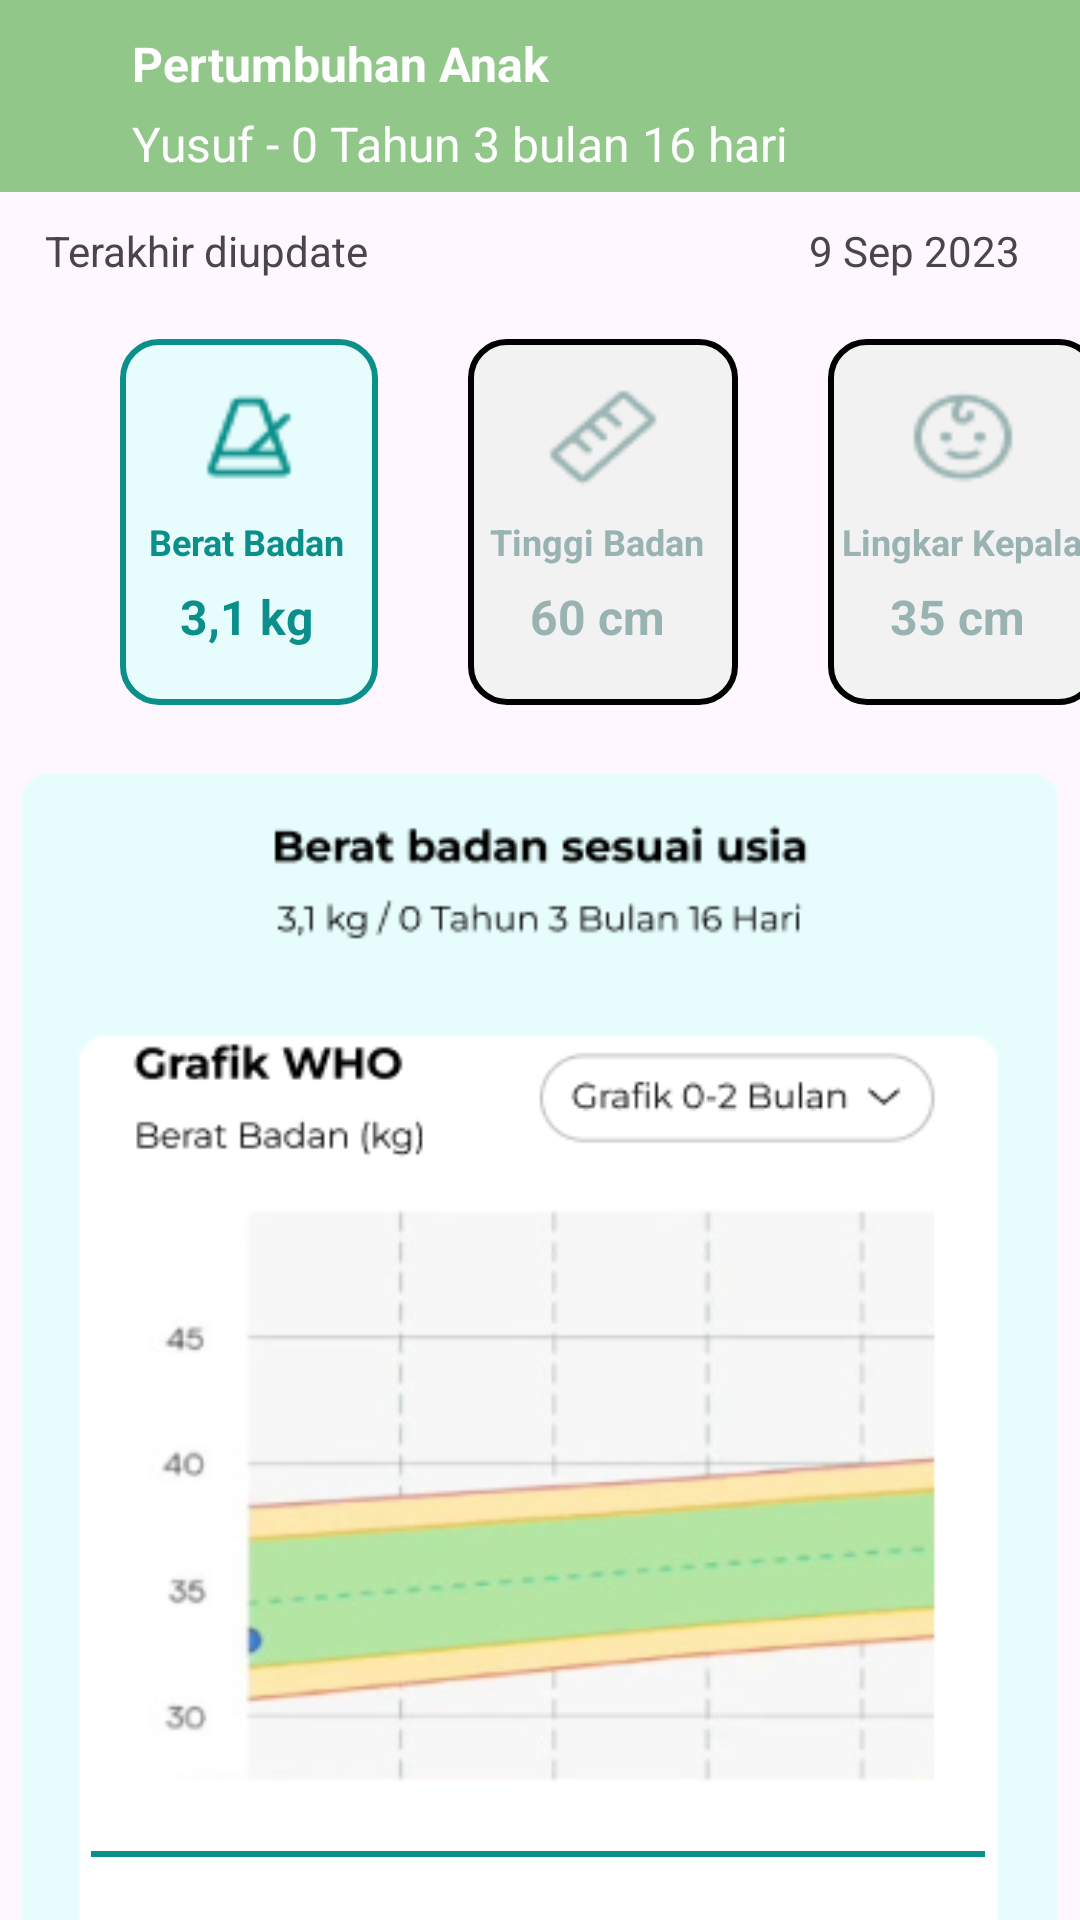

Locate icon controls on the screen. Image size 1080 × 1920, boxes as bbox=(x1, y1, x2, y2).
baby: bbox=(834, 339, 1080, 504)
ruler: bbox=(468, 339, 738, 504)
